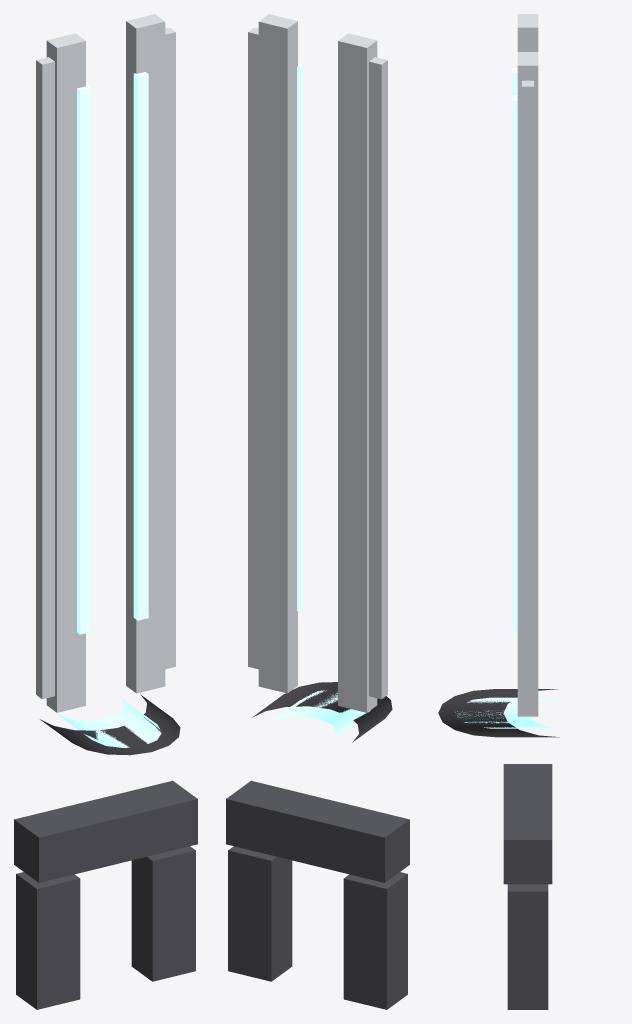
The model's file is ellen_shark_shears.glb.
The picture shows the model from 3 angles, left to right: view 1: azimuth 30°, elevation 25°; view 2: azimuth 150°, elevation 25°; view 3: azimuth 270°, elevation 25°; orthographic projection. The views are drawn at different scales.
Visible parts, largest first — view 1: RootNode; view 2: RootNode; view 3: RootNode.
Part boxes in pixels (x1,y1,x2,y2): RootNode: (14,14,197,1009); RootNode: (226,14,409,1009); RootNode: (438,14,563,1009).
Size of the model in its own units: 0.22 by 1.26 by 0.22.
